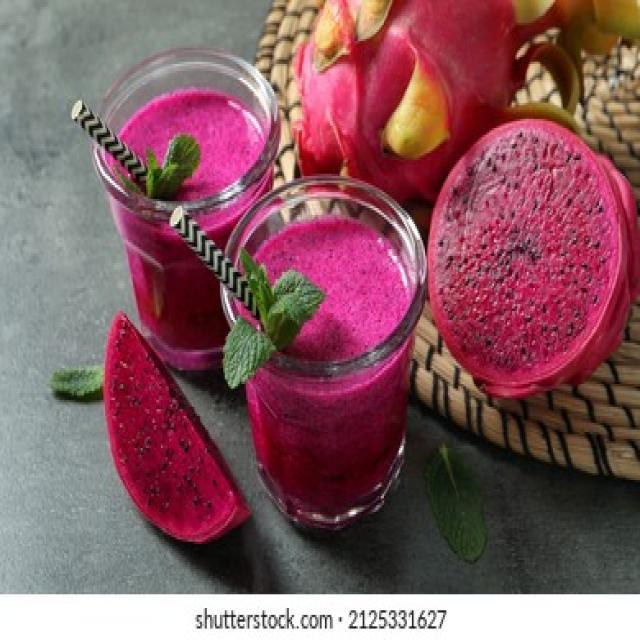dragon-fruit: (424, 116, 640, 388), (298, 0, 521, 206), (102, 308, 254, 547)
